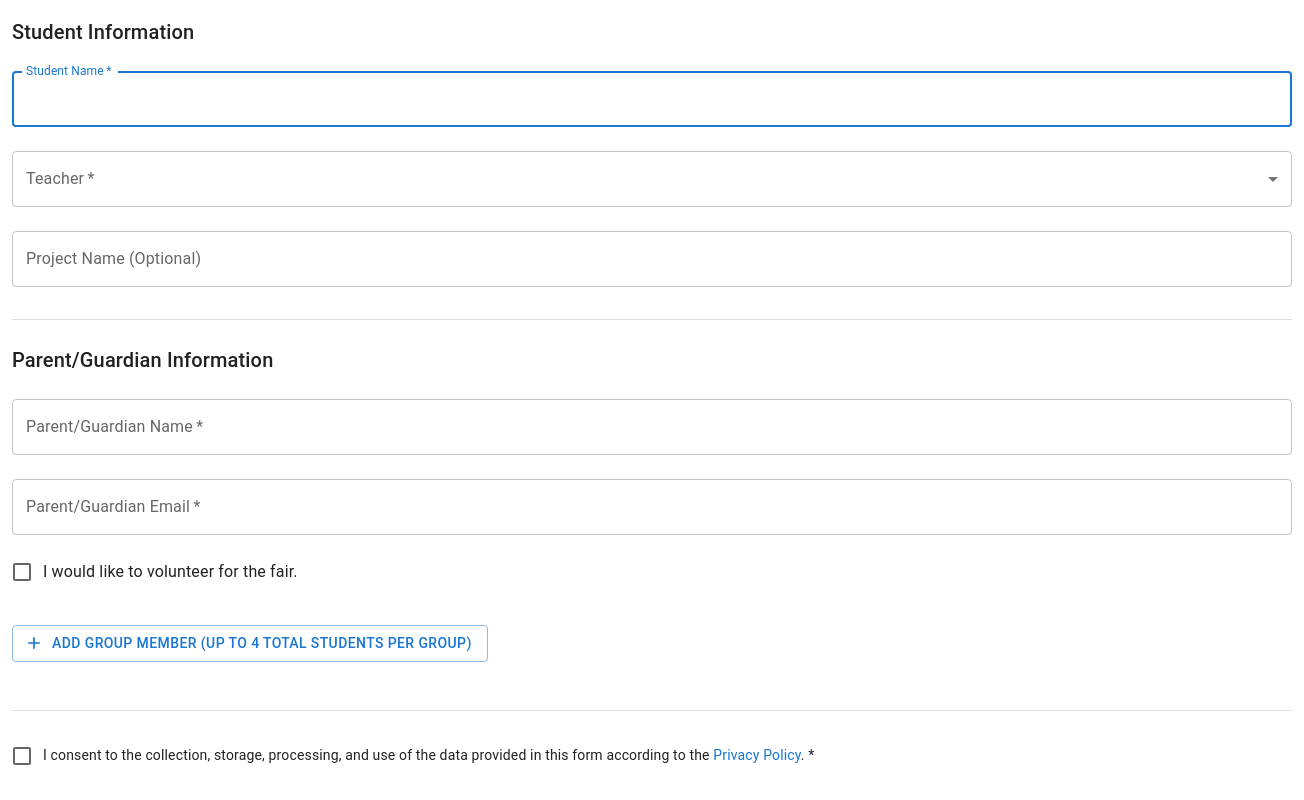
it: RegistrationForm Component › should limit additional students to 3
What coordinates should you click on to do the following:
click the button "Add Group Member (Up to 4 total students per group)"
I would click on:
 (250, 643)
Its box is [12,625,488,662].
(page scrolled)
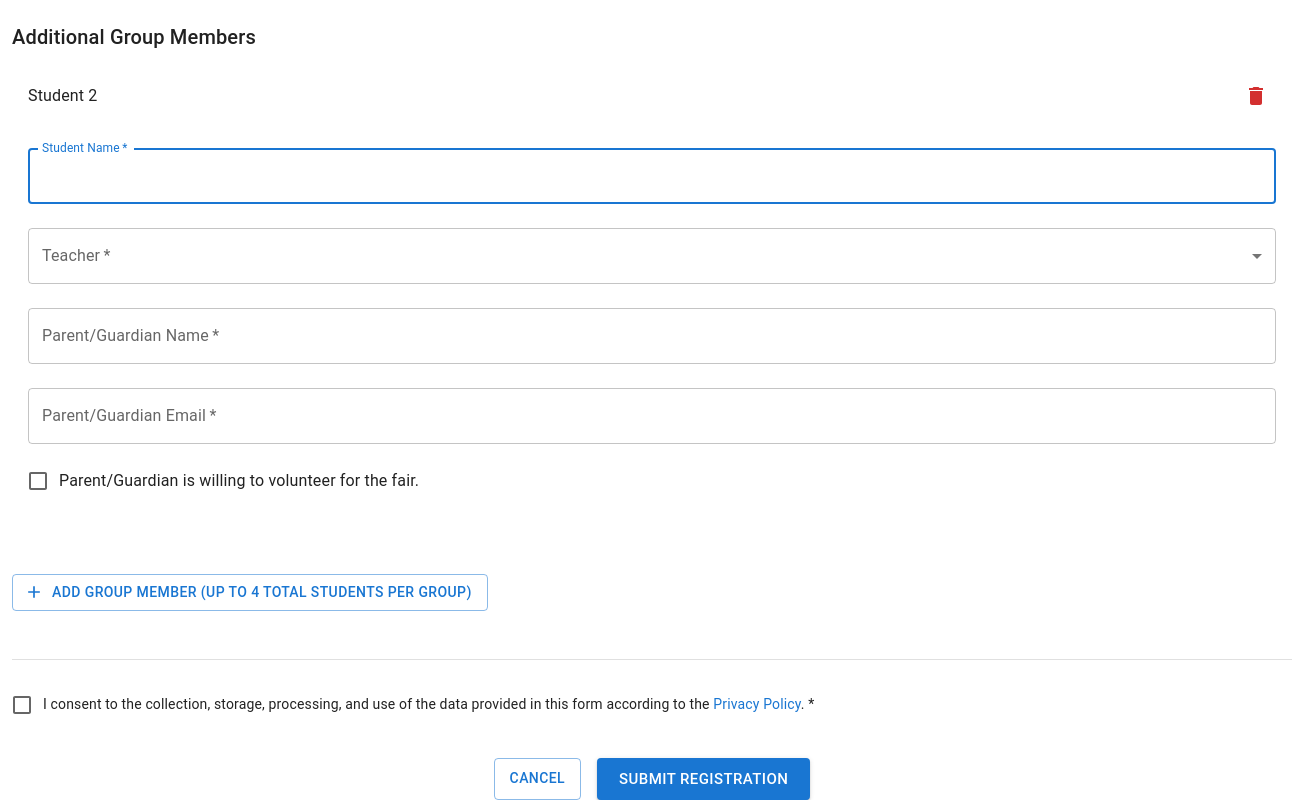
What coordinates should you click on to do the following:
click the button "Add Group Member (Up to 4 total students per group)"
I would click on:
 (250, 592)
Its box is [12,574,488,610].
(page scrolled)
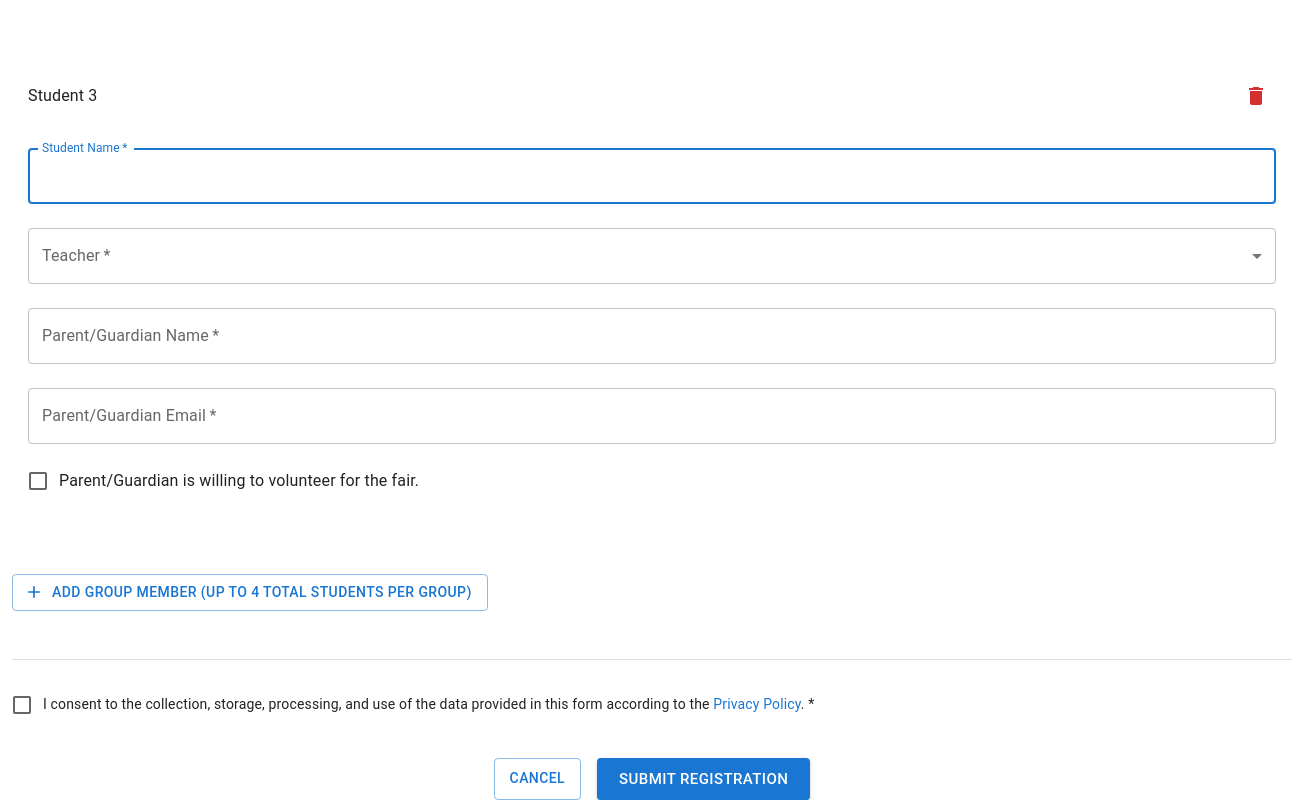
What coordinates should you click on to do the following:
click the button "Add Group Member (Up to 4 total students per group)"
I would click on:
 (250, 592)
Its box is [12,574,488,610].
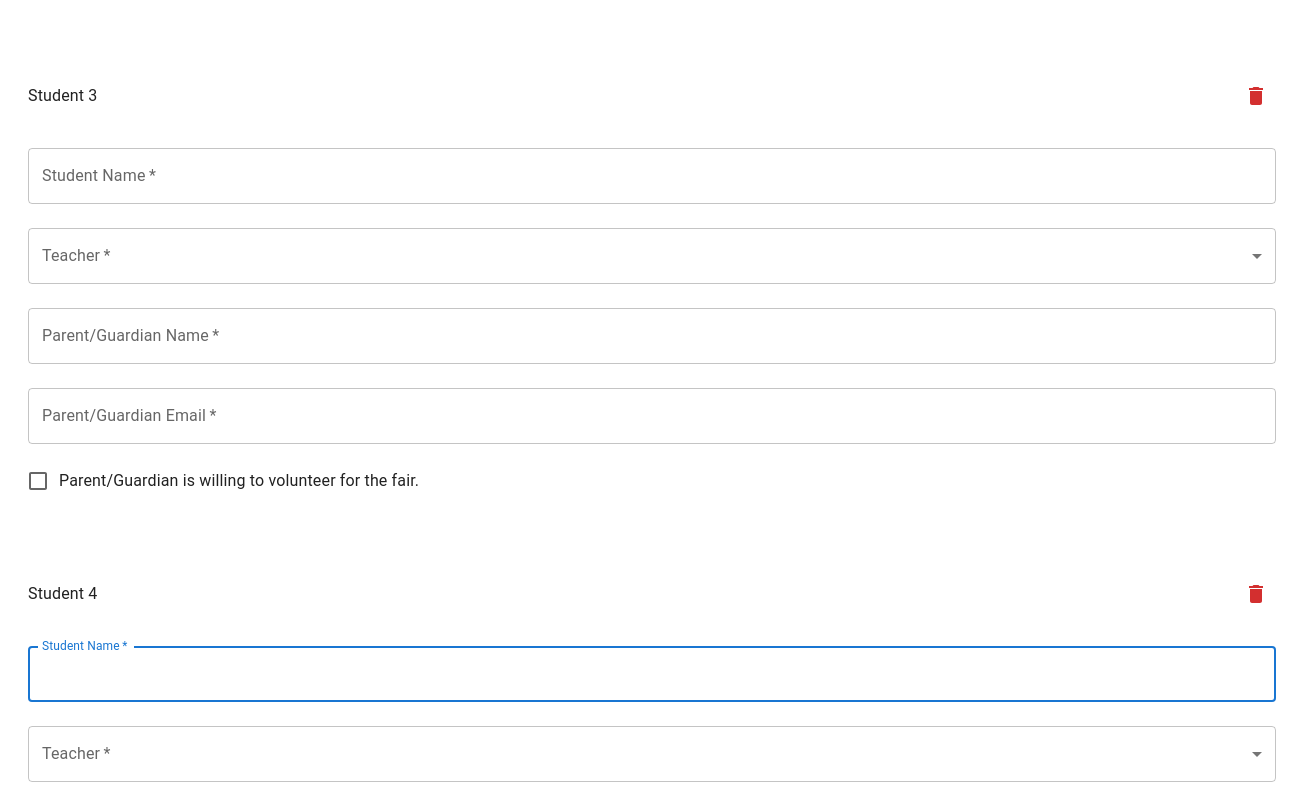
Expected: the button "Add Group Member" is gone
